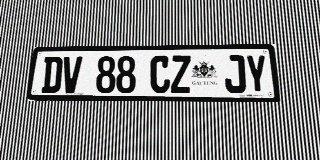8: (95, 56, 116, 93), (116, 56, 136, 93)
C: (150, 55, 170, 93)
D: (41, 56, 63, 93)
J: (224, 55, 246, 93)
V: (61, 56, 82, 93)
Y: (245, 55, 268, 93)
Z: (171, 55, 191, 93)
